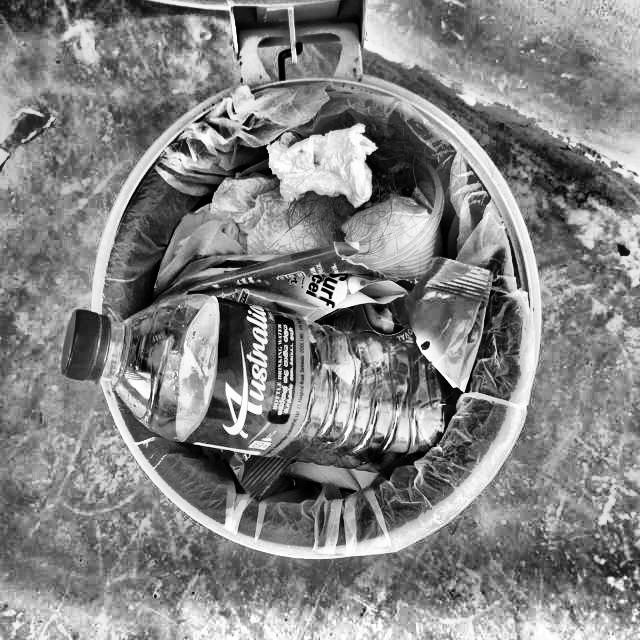Bottle-Disposed: (62, 82, 540, 561)
